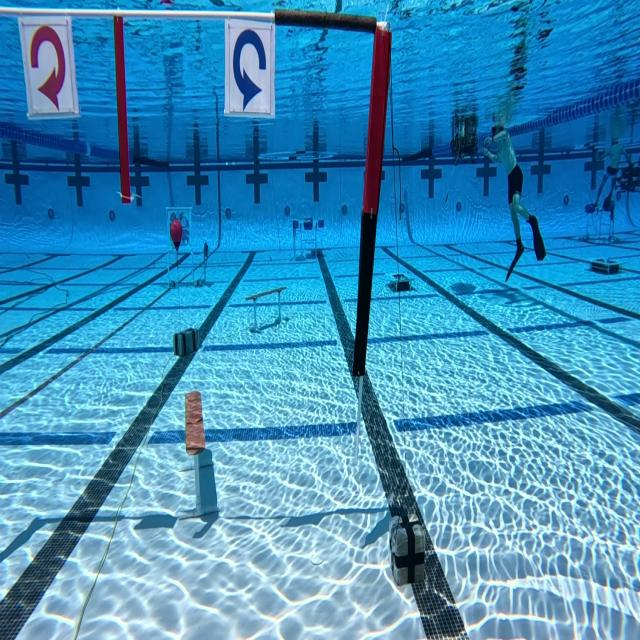blue_side: (225, 14, 271, 112)
red_side: (18, 18, 78, 118)
